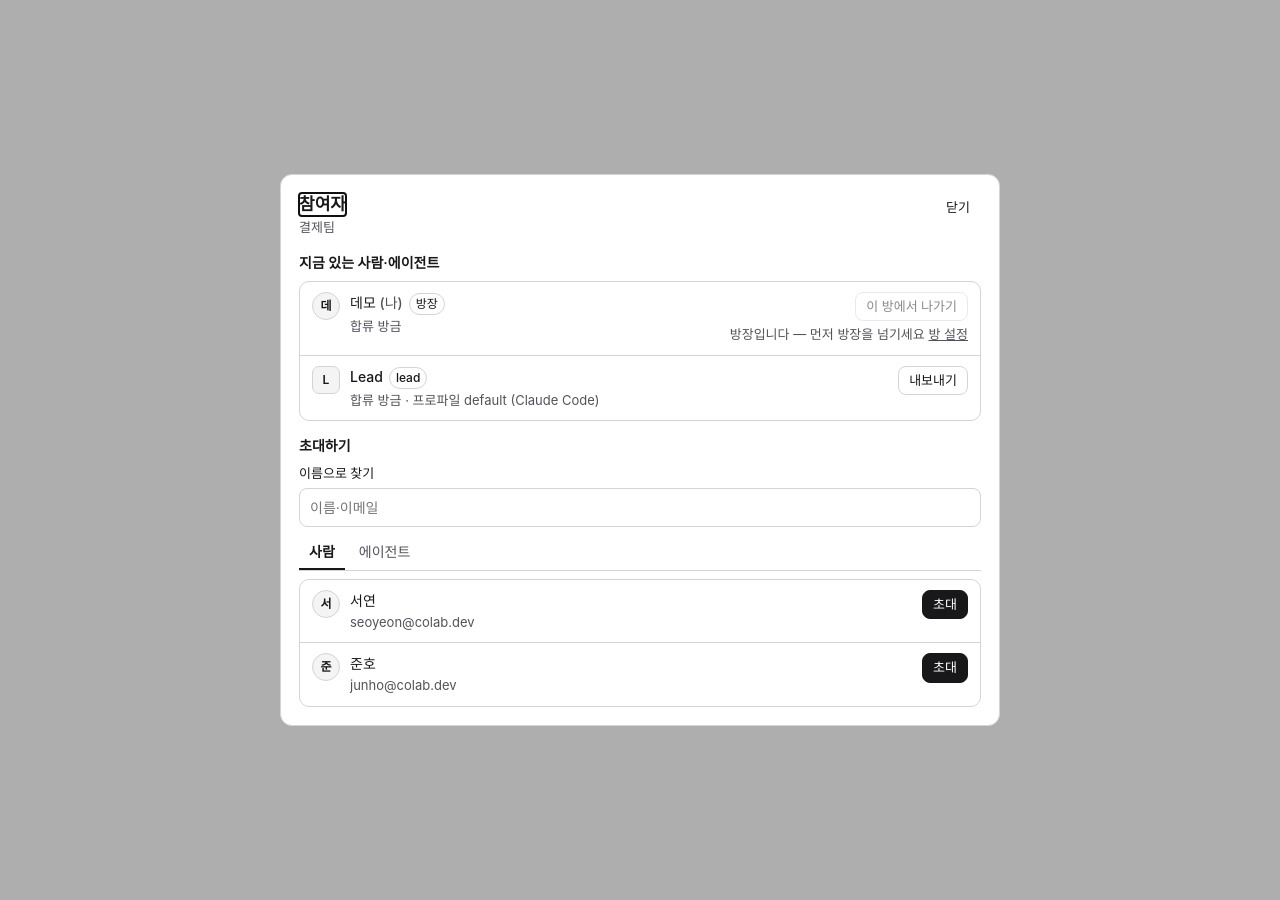
S19 참여자 › 에이전트 내보내기 확인 — 퇴장은 취소가 아니다 · 진행 중인 턴은 계속 돈다
The image size is (1280, 900).
Check: the number of list items with test id "rd-part-row" is 2, box [300,282,980,355]; [300,355,980,420]
Click the button with test id "rd-part-remove" at [933, 380], box [898,366,968,395]
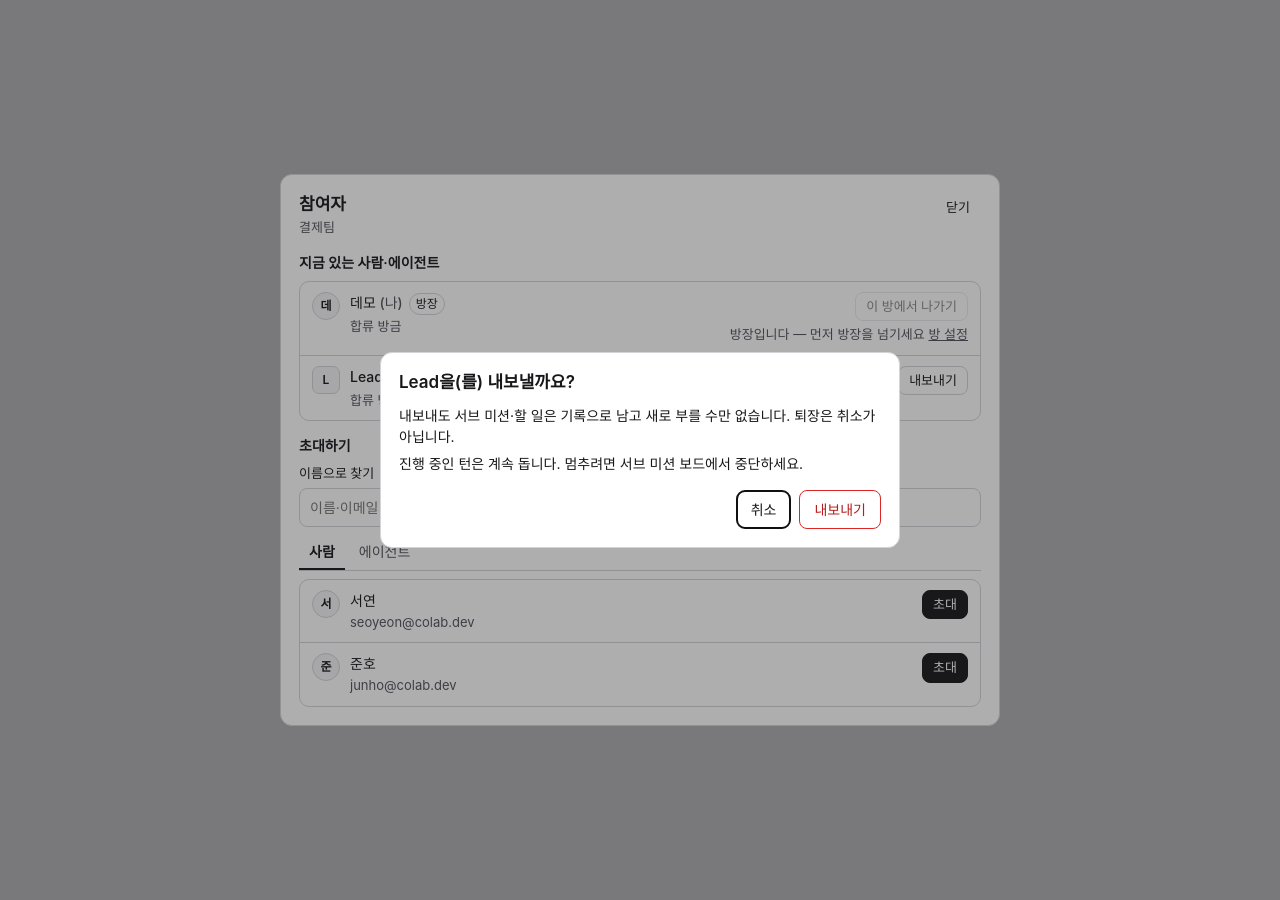
Check: the dialog with test id "rd-remove-dialog" shows "내보내도 서브 미션·할 일은 기록으로 남고 새로 부를 수만 없습니다. 퇴장은 취소가 아닙니다.", box [399,408,875,446]
Check: the dialog with test id "rd-remove-dialog" shows "진행 중인 턴은 계속 돕니다. 멈추려면 서브 미션 보드에서 중단하세요.", box [399,456,803,472]
Click the button with test id "rd-remove-dialog-confirm" at [840, 510], box [800,490,881,530]
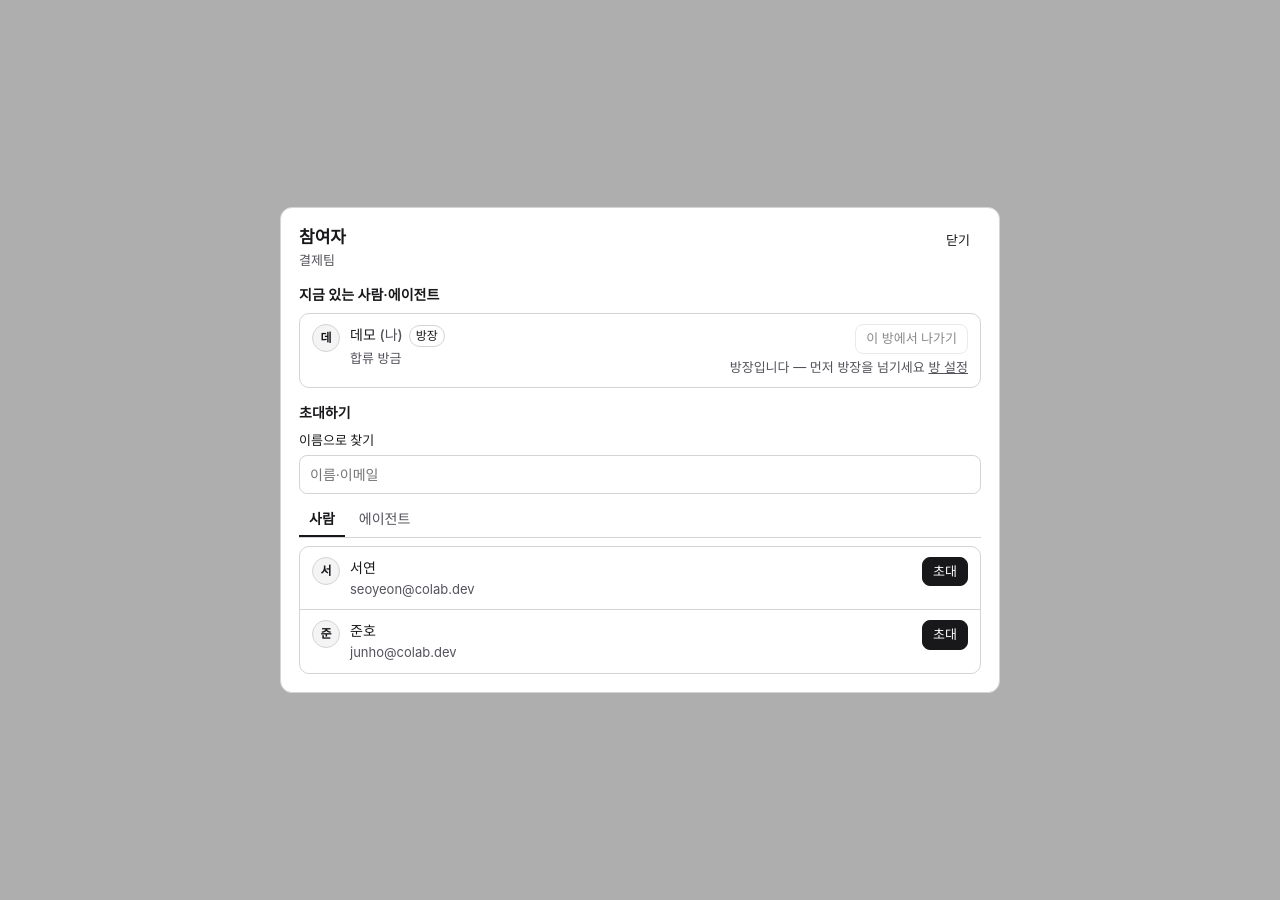
Check: the number of list items with test id "rd-part-row" is 1, box [300,314,980,388]
